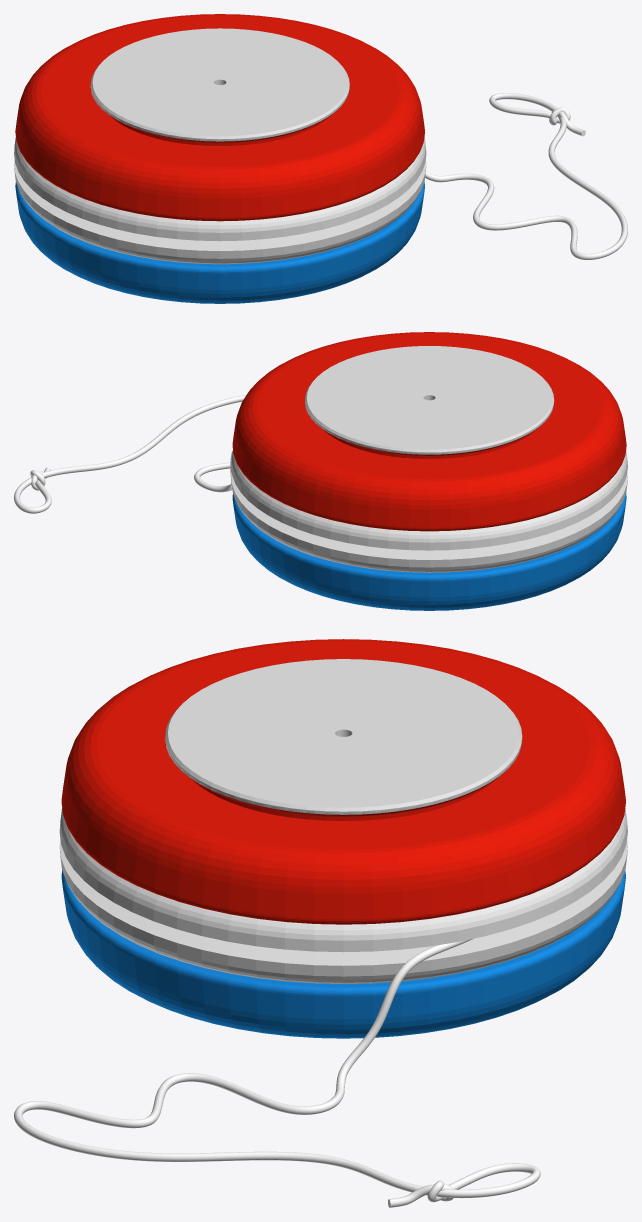
The model's file is YoYo.fbx.
3 views of the same model, one above another, from view 1: azimuth 30°, elevation 25°; view 2: azimuth 150°, elevation 25°; view 3: azimuth 270°, elevation 25° (orthographic). The views are drawn at different scales.
Visible parts, largest first — view 1: YoYo; view 2: YoYo; view 3: YoYo.
Boxes of the visible parts, left/top/right/bottom form: YoYo: left=14, top=14, right=627, bottom=303; YoYo: left=14, top=332, right=627, bottom=610; YoYo: left=14, top=639, right=627, bottom=1207.
Size of the model in its own units: 15.88 by 4.3 by 10.92.
